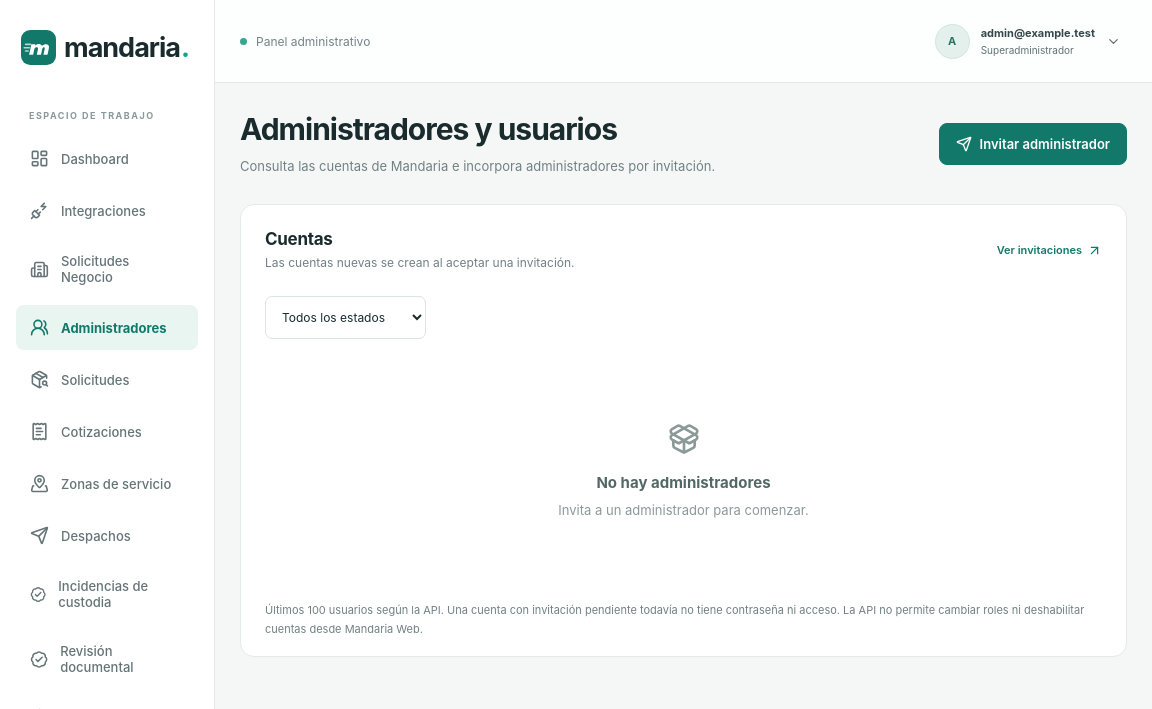
Scenario: SUPER_ADMIN accounts and admin invitations › invites a PROVIDER_ADMIN with a role fixed by the flow
Click the button "Invitar administrador".
click(1033, 144)  # box [939,123,1127,165]
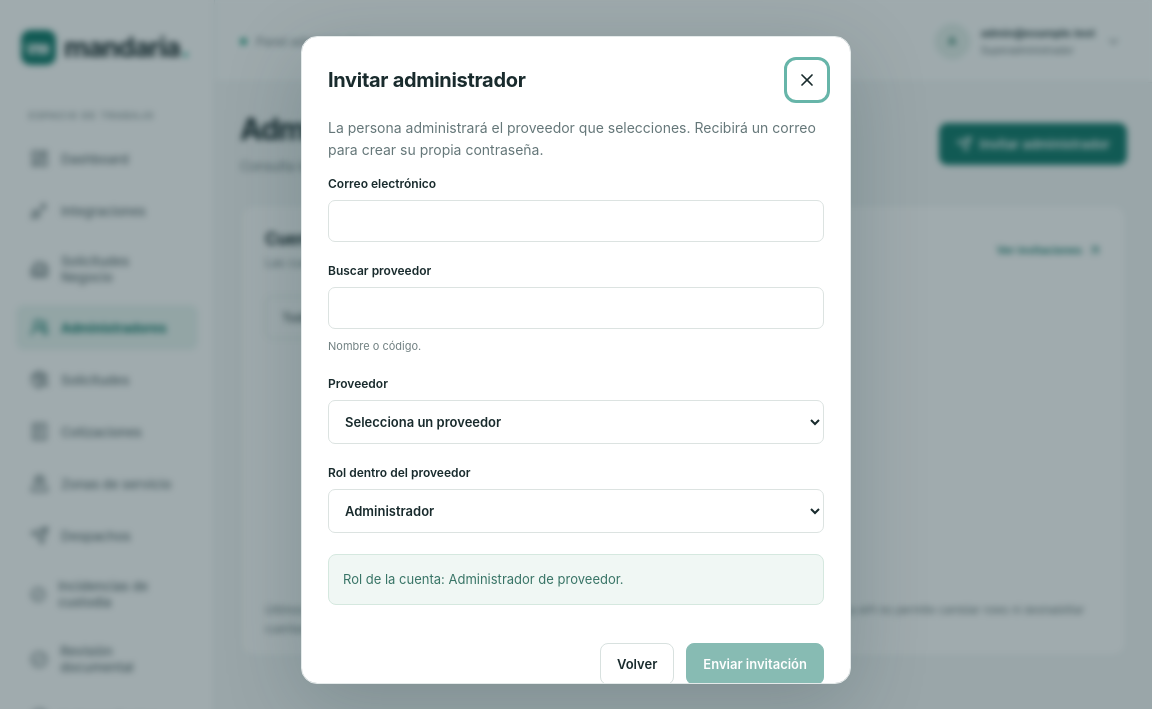
expect the text "Rol de la cuenta: Administrador de proveedor." is shown: met, box [328,554,824,605]
Type " Ana@Example.test " into the field labelled "Correo electrónico".
click(576, 221); type(" Ana@Example.test ")  # box [328,200,824,242]
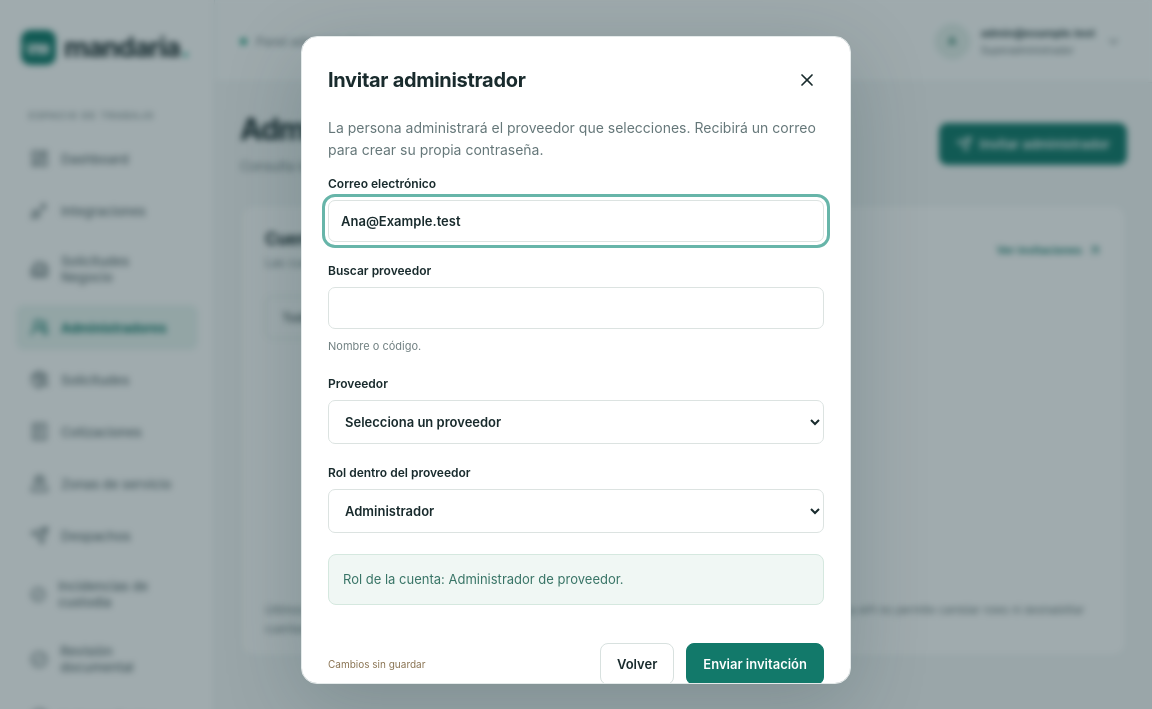
Select "Rápidos de Coita · RAPIDOS_COITA" in the dropdown labelled "Proveedor" at [576, 422], box [328,400,824,444]
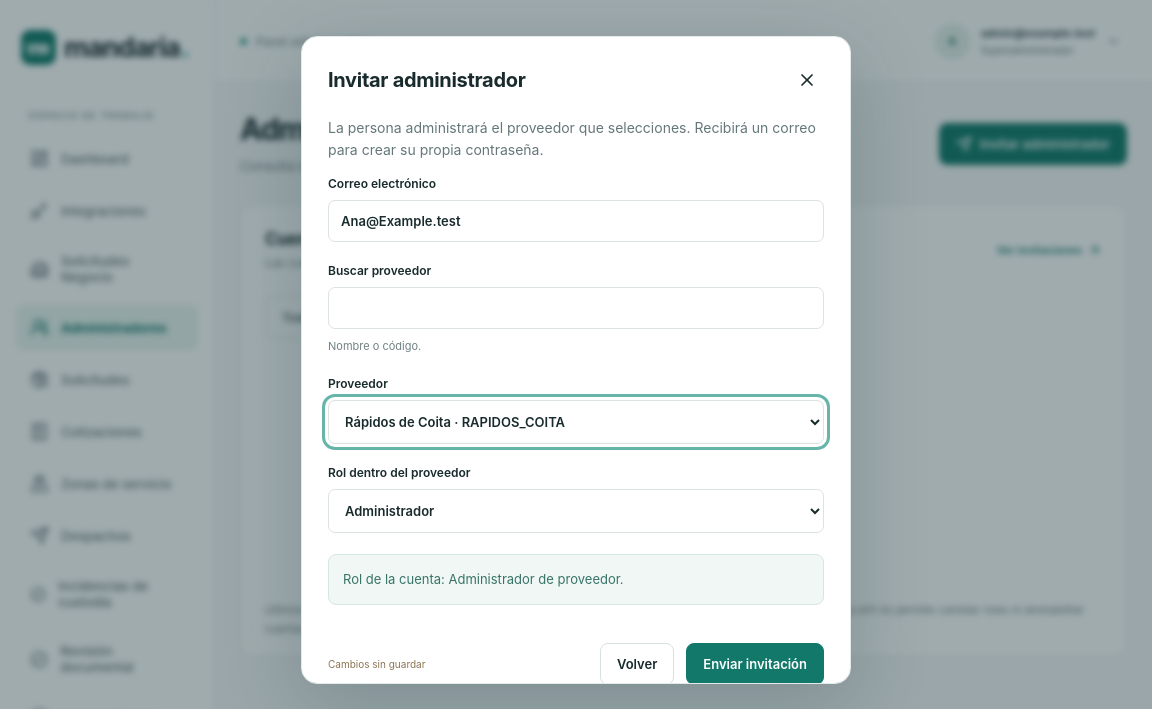
Select "Propietario" in the dropdown labelled "Rol dentro del proveedor" at [576, 511], box [328,489,824,533]
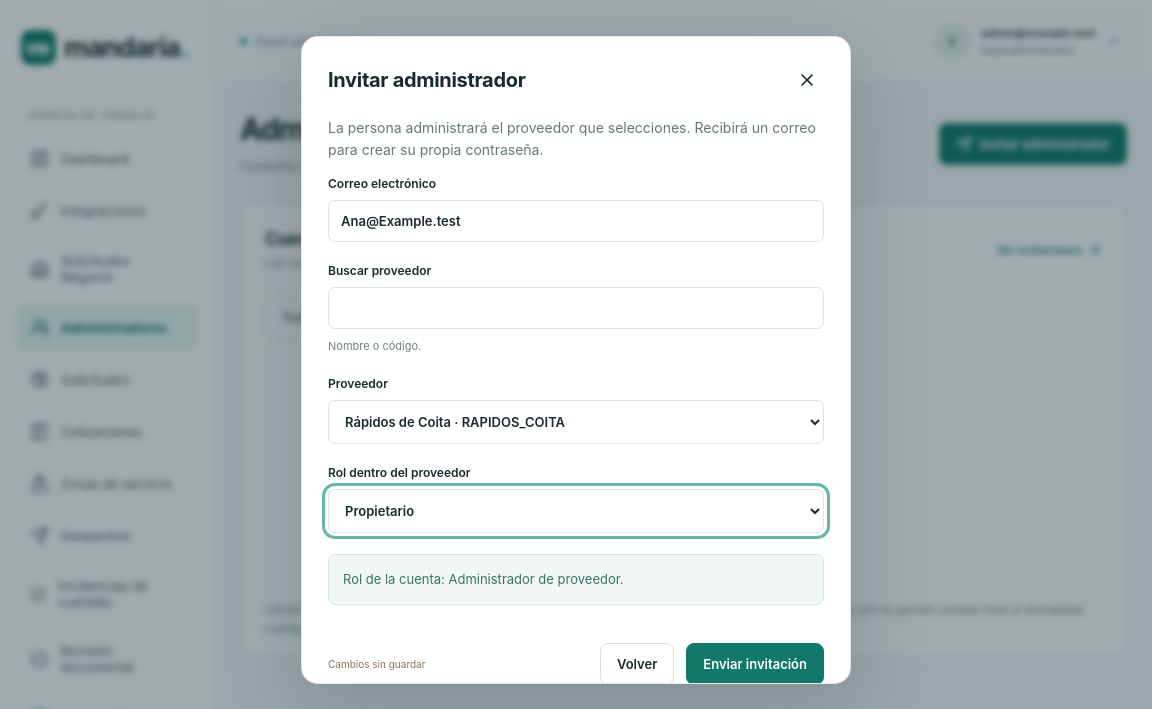
Click the button "Enviar invitación".
click(755, 664)  # box [686,643,824,685]
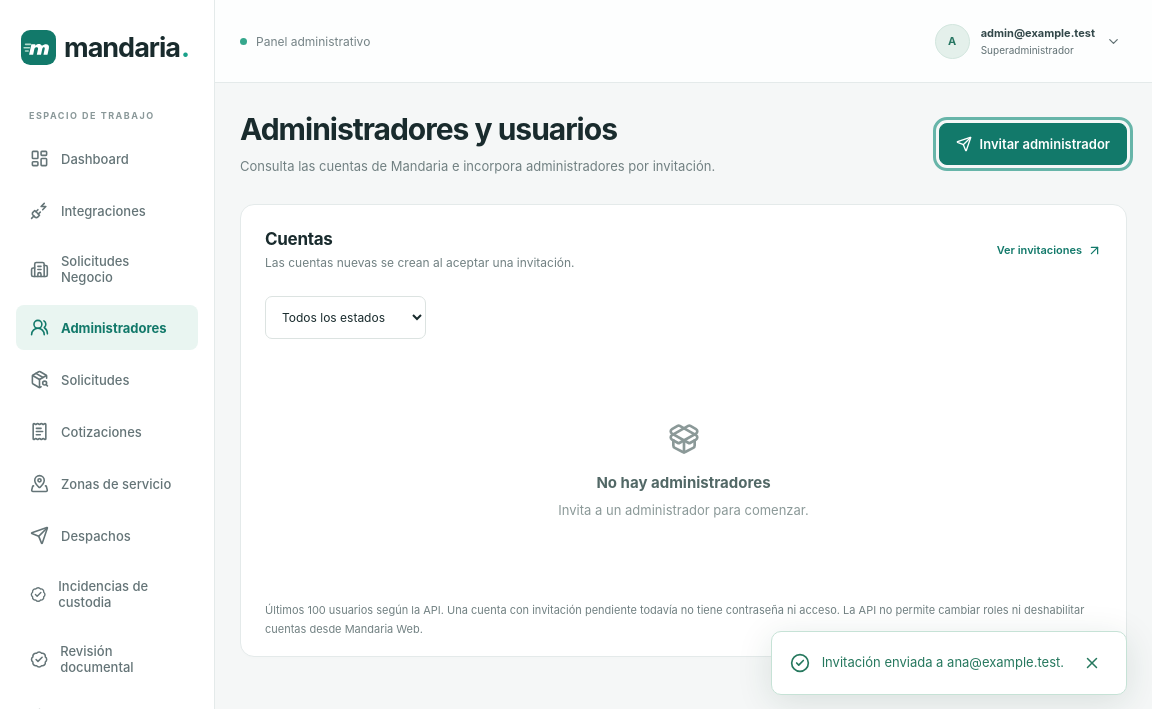
expect the text "Invitación enviada a ana@example.test." is shown: met, box [822,653,1064,673]
expect the dialog is gone: met
